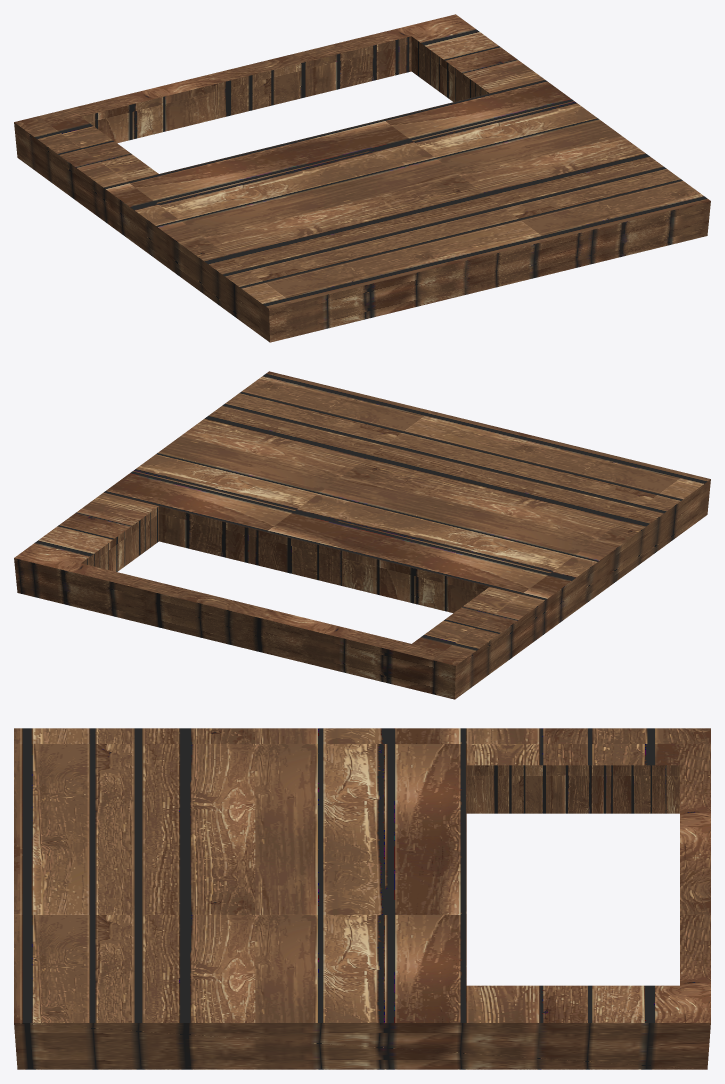
The model's file is platformhole.glb.
The picture shows the model from 3 angles, top to bottom: view 1: azimuth 30°, elevation 25°; view 2: azimuth 150°, elevation 25°; view 3: azimuth 270°, elevation 25°; orthographic projection. The views are drawn at different scales.
Visible parts, largest first — view 1: PlatformWHole; view 2: PlatformWHole; view 3: PlatformWHole.
Part boxes in pixels (<box>): PlatformWHole: <box>14,14,710,342</box>; PlatformWHole: <box>14,371,710,699</box>; PlatformWHole: <box>14,728,710,1069</box>.
Size of the model in its own units: 2 by 0.1525 by 2.
Materials: 1 (1 with a texture image).
